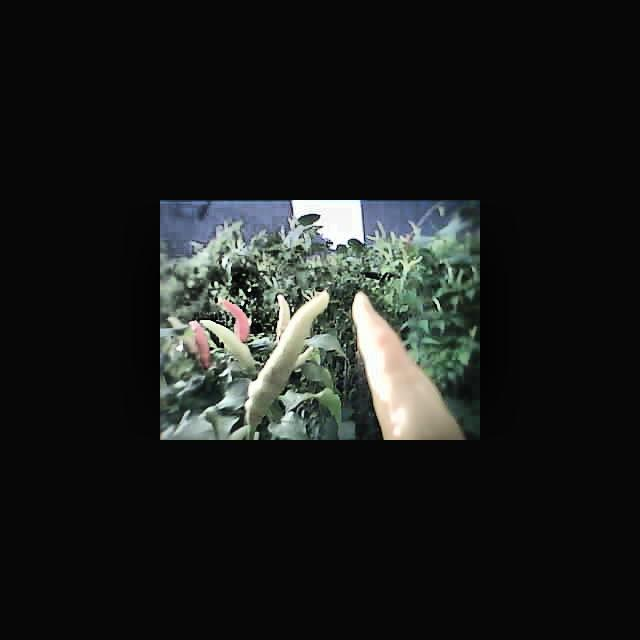Cabai: (363, 313, 404, 440), (188, 320, 214, 372), (219, 298, 254, 323)
